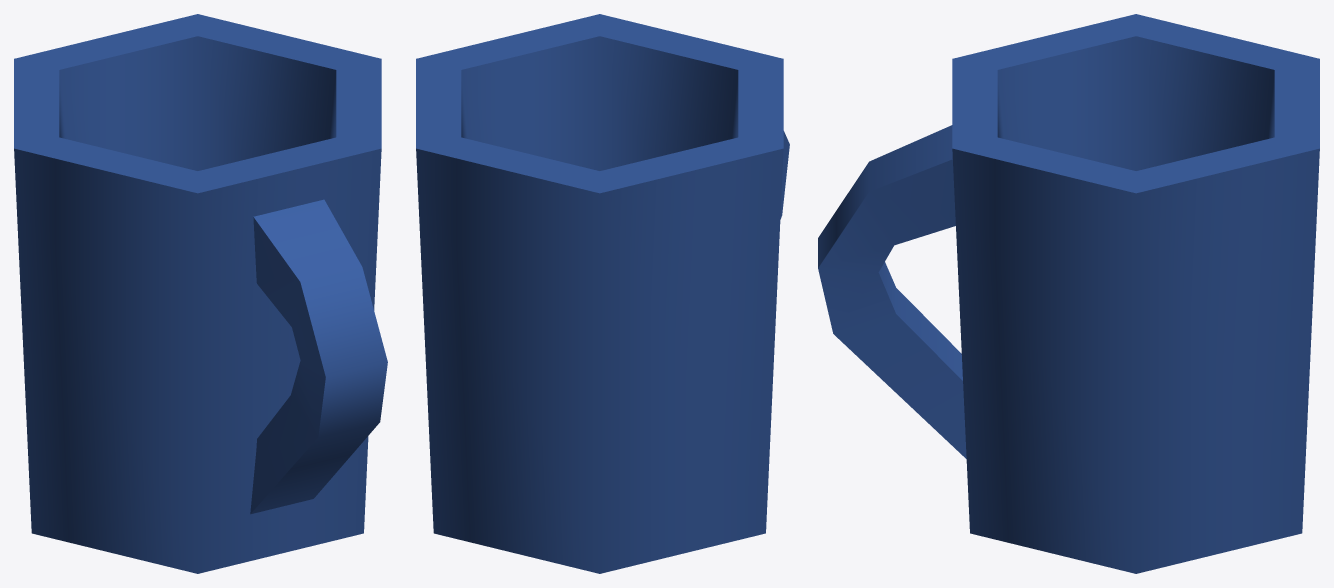
Rendered from SM_Cup_01.FBX.
The picture shows the model from 3 angles, left to right: view 1: azimuth 30°, elevation 25°; view 2: azimuth 150°, elevation 25°; view 3: azimuth 270°, elevation 25°; orthographic projection.
Visible parts, largest first — view 1: SM_Cup_01; view 2: SM_Cup_01; view 3: SM_Cup_01.
Part boxes in pixels (x1,y1,x2,y2): SM_Cup_01: (14,14,387,573); SM_Cup_01: (416,14,789,573); SM_Cup_01: (818,14,1319,573).
Size of the model in its own units: 16.51 by 19.53 by 16.71.
